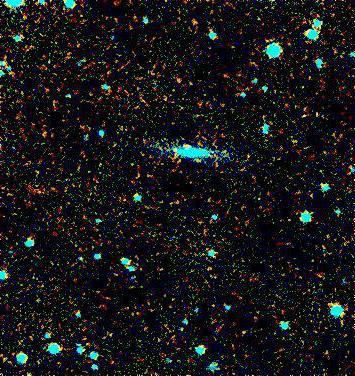star: (19, 356, 49, 376)
